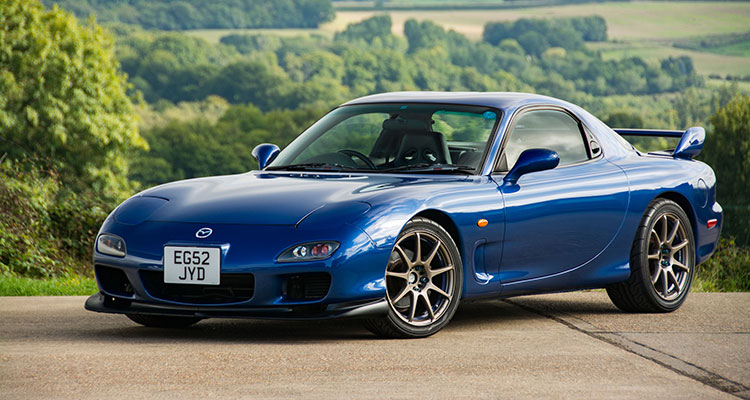plate: (162, 246, 222, 286)
